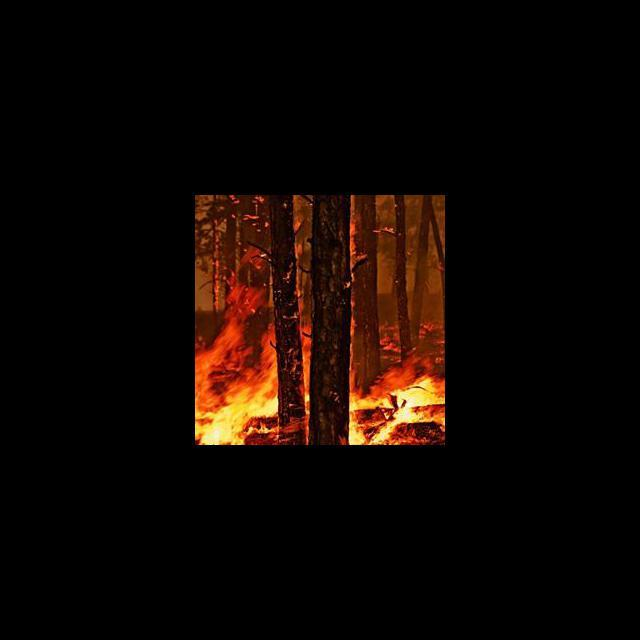Fire: (196, 255, 279, 444), (351, 317, 444, 444)
